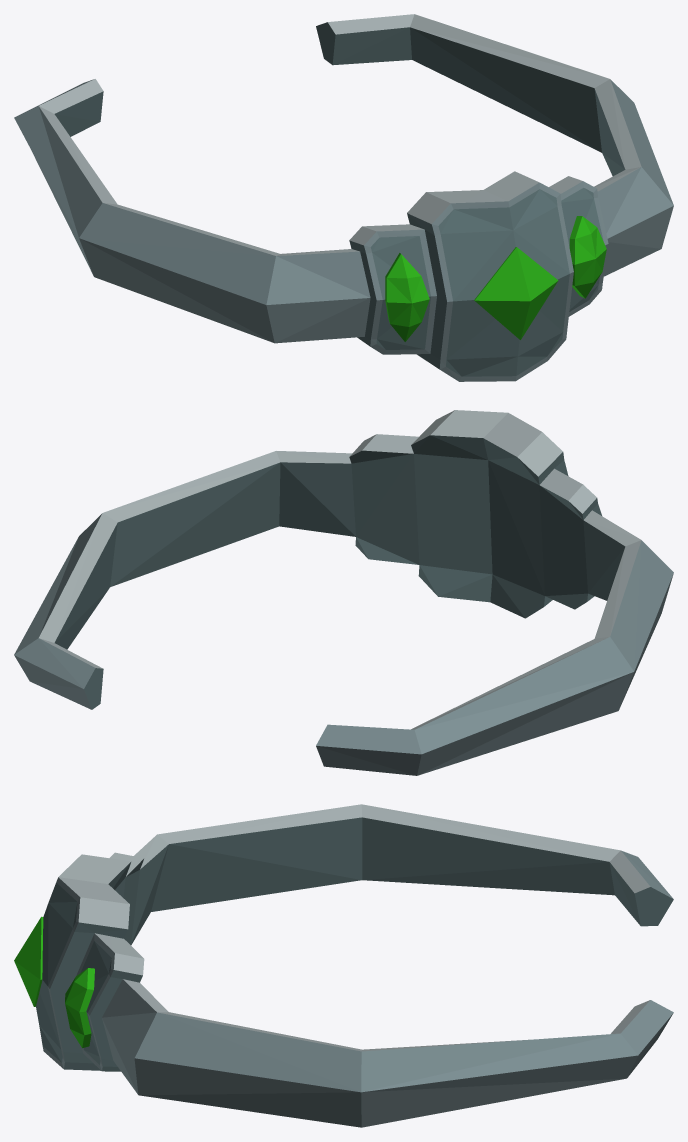
The model's file is CircletGreen.dae.
3 views of the same model, one above another, from view 1: azimuth 30°, elevation 25°; view 2: azimuth 150°, elevation 25°; view 3: azimuth 270°, elevation 25° (orthographic).
Parts seen in each view (by area): view 1: CircletGreen; view 2: CircletGreen; view 3: CircletGreen.
Part boxes in pixels (bbox=[...]): CircletGreen: bbox=[14, 14, 673, 381]; CircletGreen: bbox=[14, 410, 673, 775]; CircletGreen: bbox=[14, 804, 673, 1127].
Bounding box in the file's own units: 1.63 × 1.68 × 0.4957.
